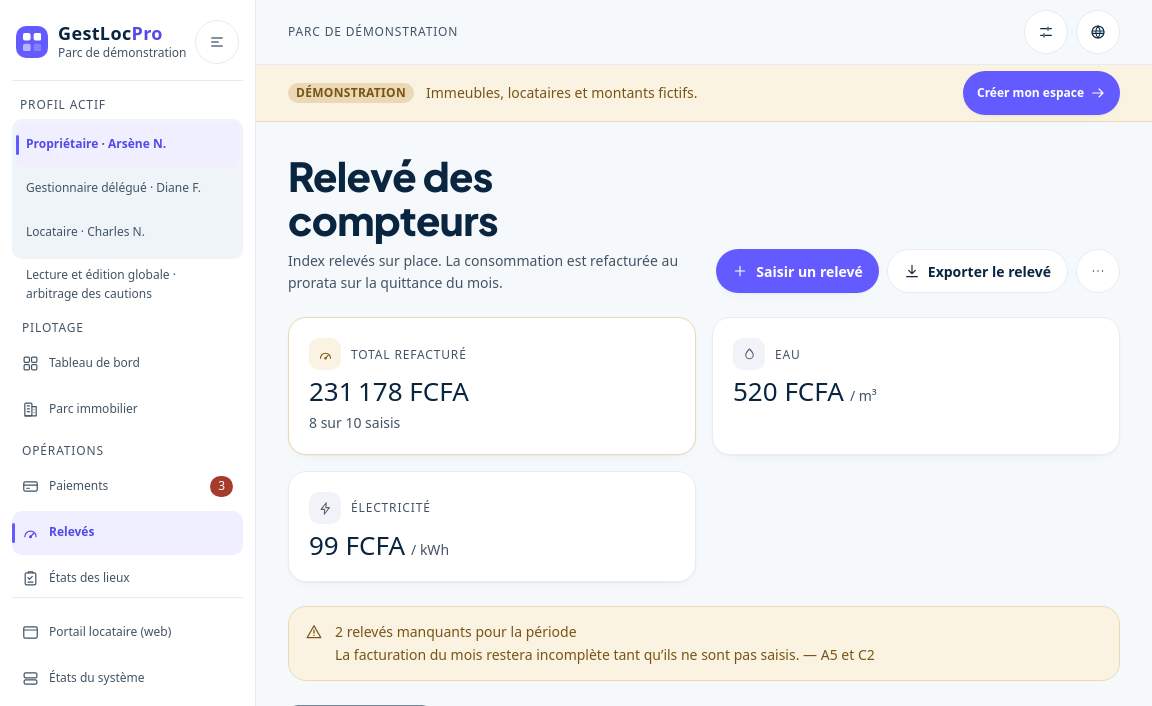
Scenario: les logements se choisissent en tapant › réduit aussi la liste du relevé, sur une autre modale
Click the button "Saisir un relevé" at (798, 271), box [716,249,879,293]
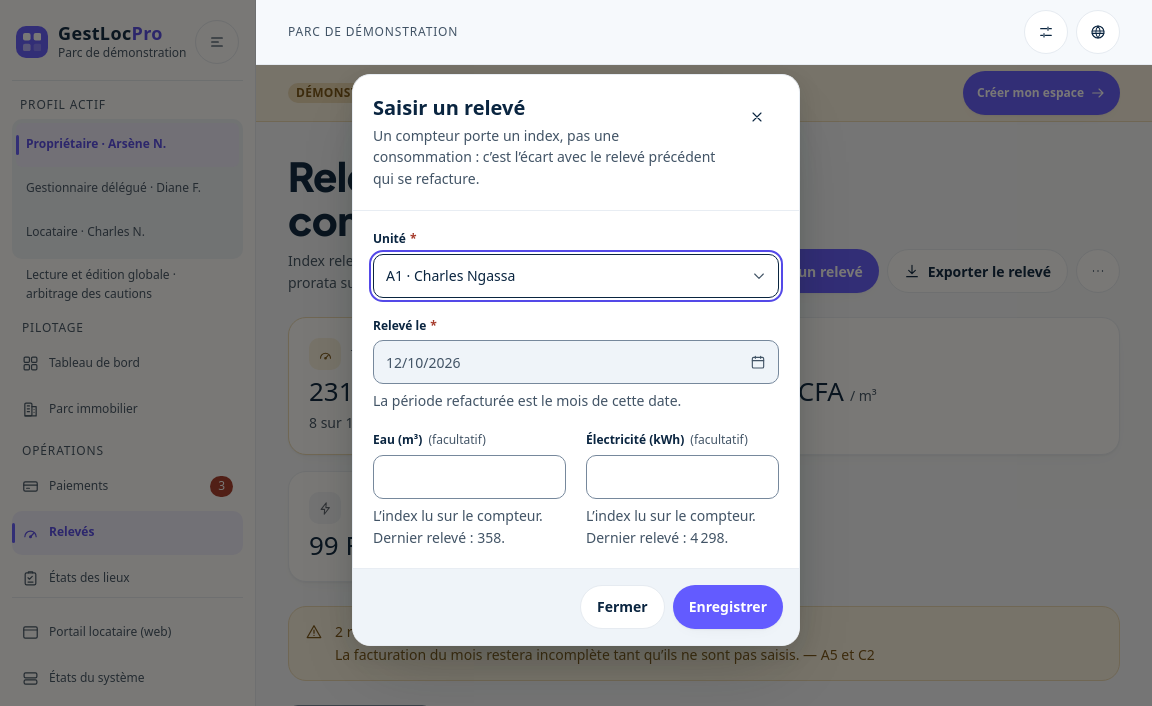
Type "A3" into the dropdown labelled "Unité*" at (576, 276), box [373,254,779,298]
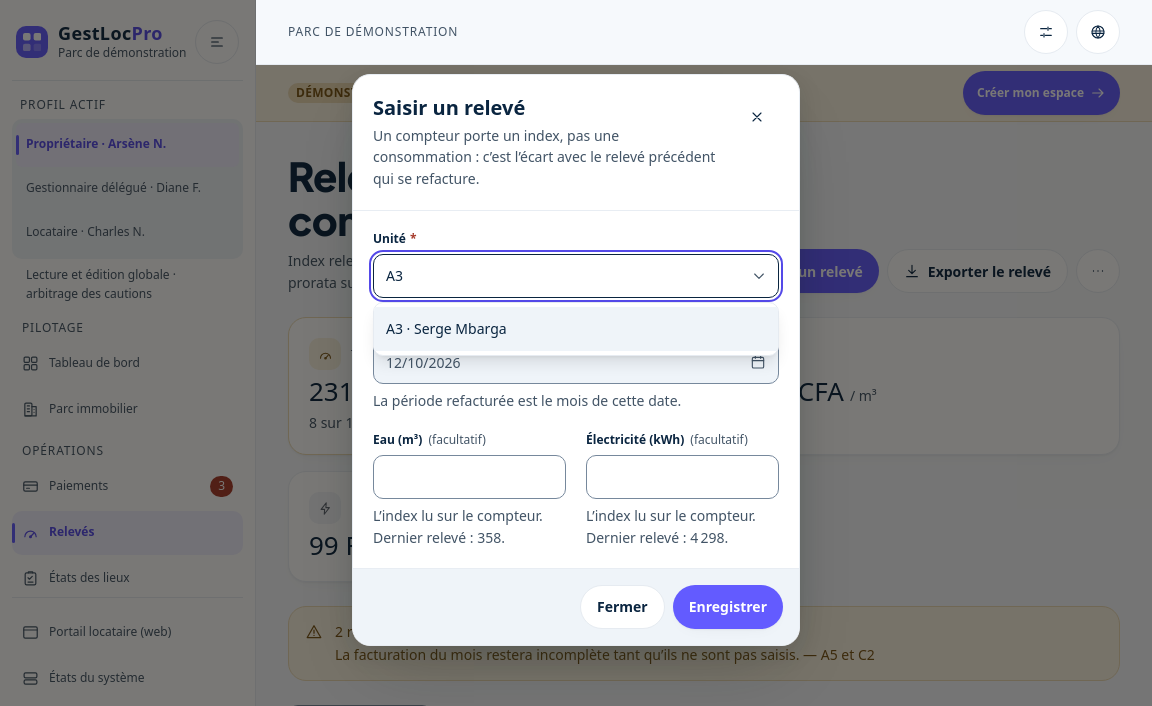
Expected: the option shows "A3", [374,307,778,351]
Expected: the number of options is 1, [374,307,778,351]
